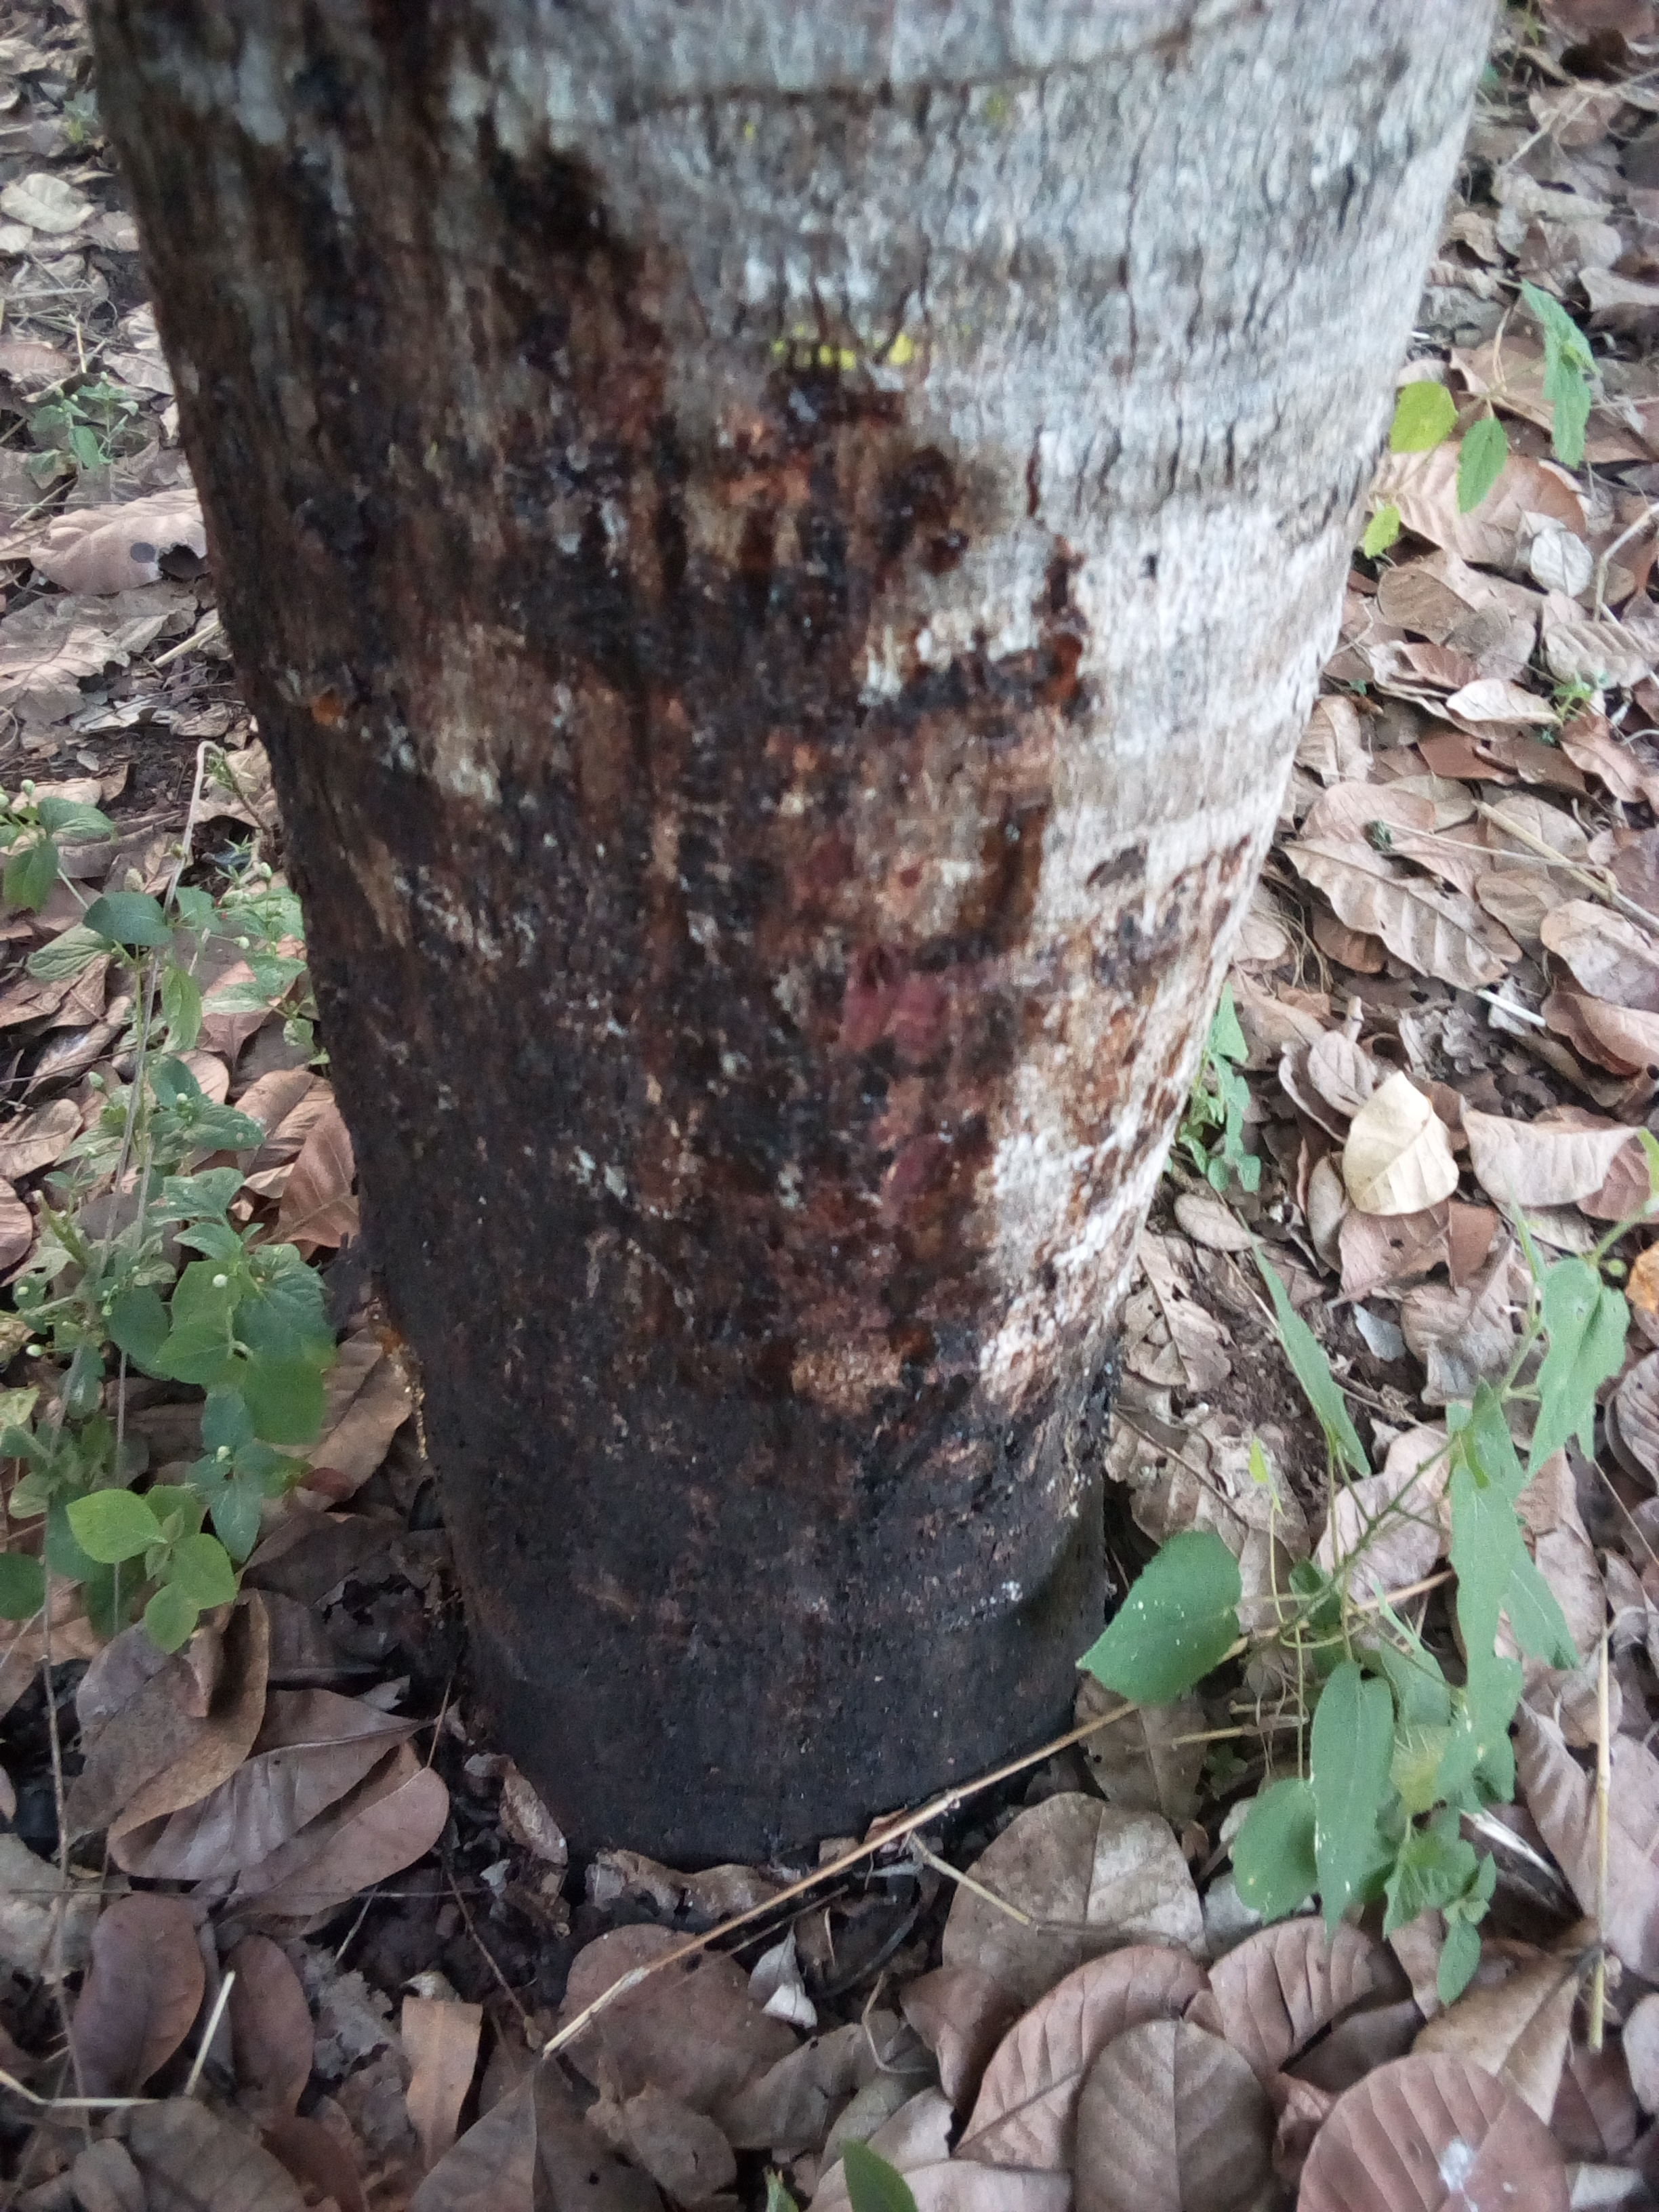Gommose: (247, 52, 1063, 1458)
